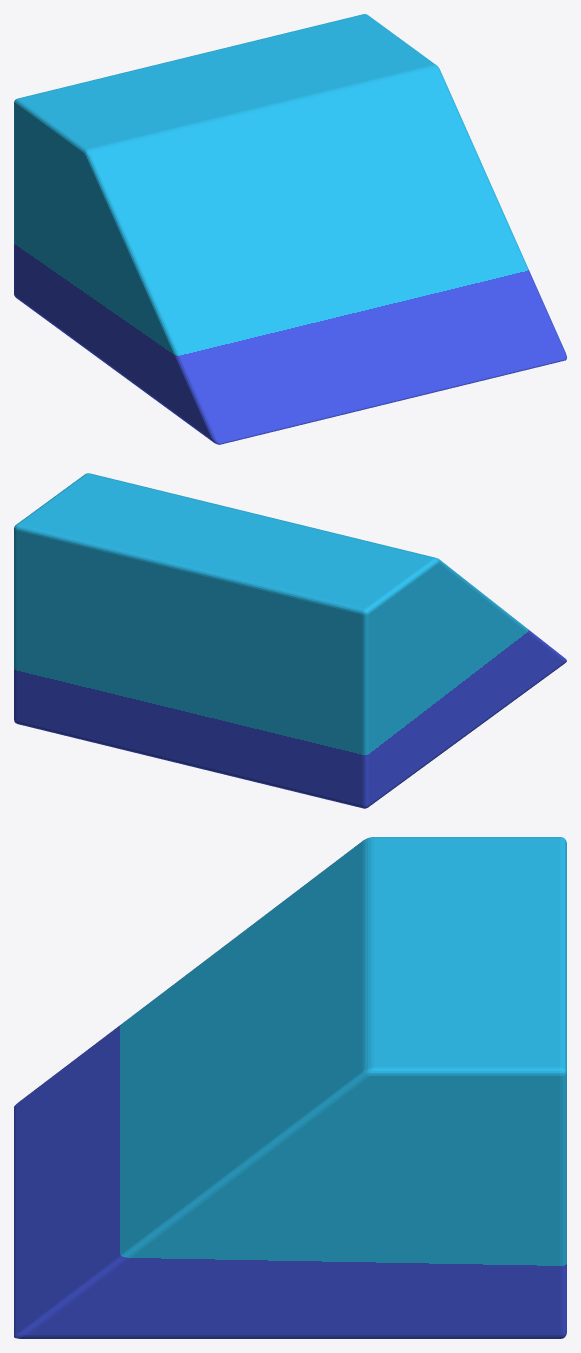
File: ramp1.fbx
3 views of the same model, one above another, from view 1: azimuth 30°, elevation 25°; view 2: azimuth 150°, elevation 25°; view 3: azimuth 270°, elevation 25° (orthographic). The views are drawn at different scales.
Parts seen in each view (by area): view 1: Cube.005; view 2: Cube.005; view 3: Cube.005.
Boxes of the visible parts, box(x1,y1,x2,y2) form: Cube.005: box(14, 14, 566, 444); Cube.005: box(14, 473, 566, 808); Cube.005: box(14, 837, 566, 1338).
Bounding box in the file's own units: 2087 × 1122 × 2074.
Materials: 1 (1 with a texture image).
